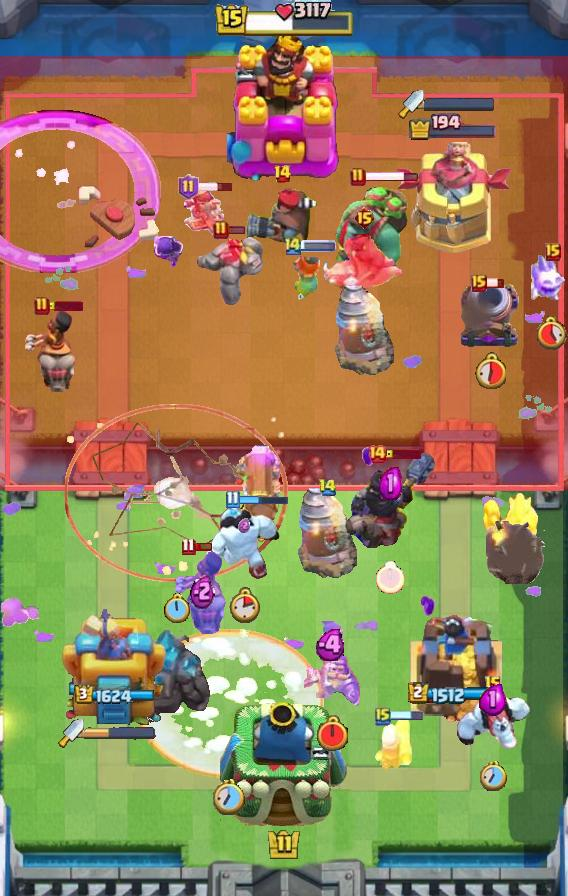baby-dragon: (487, 520, 546, 583)
bar: (62, 601, 166, 731), (394, 142, 512, 256)
battle-healer: (235, 445, 281, 549)
cannoneer-tower: (126, 630, 214, 728)
clock: (213, 0, 355, 40)
electro-spirit: (315, 629, 349, 661), (479, 682, 507, 716), (190, 571, 215, 609), (379, 468, 402, 501), (238, 519, 250, 534)
elite-barbarian: (21, 308, 83, 402), (171, 550, 233, 644)
elixir: (314, 715, 350, 753), (534, 315, 568, 350), (474, 351, 506, 388), (213, 779, 245, 815), (228, 587, 259, 623), (376, 561, 405, 594), (162, 593, 189, 625), (480, 761, 507, 791)
emote: (365, 170, 420, 183), (237, 494, 289, 506), (198, 181, 235, 193), (300, 240, 336, 252), (388, 710, 424, 722), (47, 301, 83, 311), (385, 449, 421, 459), (485, 277, 505, 289), (193, 540, 213, 552), (226, 225, 246, 235)
firecracker-evolution: (304, 653, 360, 709)
freeze: (322, 233, 406, 299), (483, 489, 543, 573)
goblin: (155, 236, 185, 272)
goblin-cage: (458, 280, 522, 350)
guard: (64, 404, 288, 583)
hog-rider: (287, 251, 325, 303)
inferno-dragon: (343, 450, 438, 548)
king-tower: (227, 29, 341, 181), (220, 702, 348, 827)
king-tower-bar: (424, 97, 496, 111), (84, 726, 156, 740)
knight-evolution: (0, 111, 160, 274)
lava-hound: (325, 179, 411, 285)
magic-archer: (334, 284, 394, 376), (297, 487, 357, 579)
mirror: (528, 252, 568, 304)
phoenix-big: (136, 629, 325, 778)
phoenix-small: (243, 185, 321, 245)
queen-tower: (403, 613, 506, 731)
rage: (204, 498, 284, 580), (454, 692, 532, 752)
selected: (408, 113, 498, 141), (408, 683, 498, 706), (73, 684, 154, 705)
skeleton-dragon: (181, 186, 225, 246)
text: (352, 206, 375, 230), (178, 174, 199, 200), (283, 236, 303, 257), (272, 164, 292, 184), (367, 444, 387, 464), (484, 675, 502, 695), (319, 479, 338, 497), (350, 167, 366, 187), (213, 220, 229, 240), (34, 296, 50, 316), (375, 706, 391, 726), (545, 243, 561, 261), (471, 274, 487, 292), (225, 491, 240, 510), (181, 537, 195, 555)
tombstone: (372, 714, 414, 772)
valkyrie-evolution: (194, 235, 266, 307)
